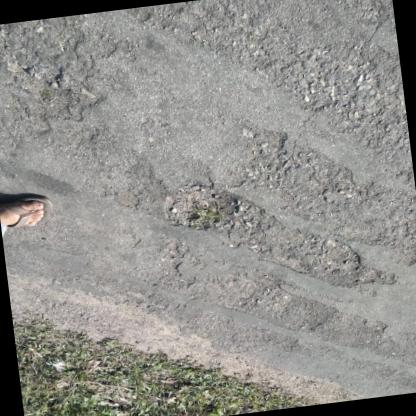pothole: (162, 174, 252, 236)
